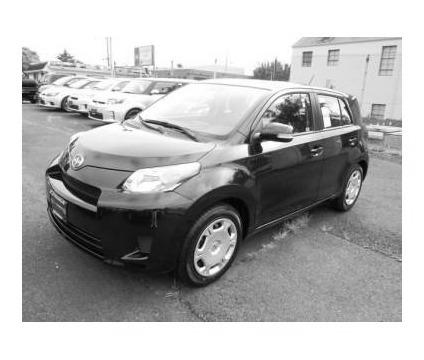car: (44, 77, 372, 289)
